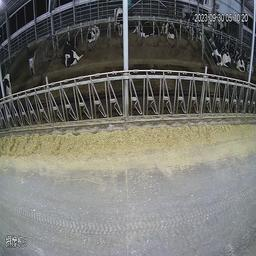cow: (210, 38, 230, 70), (63, 35, 81, 65), (135, 19, 154, 39), (231, 45, 245, 72), (113, 7, 123, 37), (161, 21, 176, 40), (87, 25, 99, 42)
